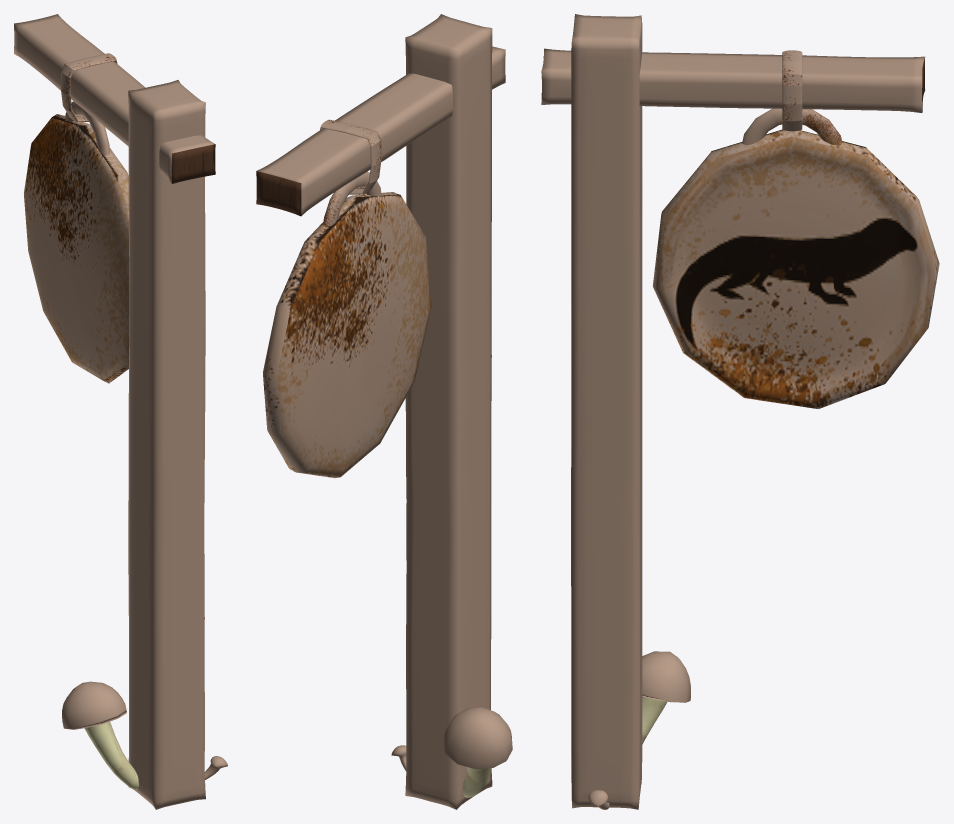
File: BusStopSignbb.fbx
The picture shows the model from 3 angles, left to right: view 1: azimuth 30°, elevation 25°; view 2: azimuth 150°, elevation 25°; view 3: azimuth 270°, elevation 25°; orthographic projection. The views are drawn at different scales.
Visible parts, largest first — view 1: pTorus4; view 2: pTorus4; view 3: pTorus4.
Part boxes in pixels (left/top/right/bottom): pTorus4: left=14, top=14, right=227, bottom=809; pTorus4: left=256, top=14, right=512, bottom=809; pTorus4: left=541, top=14, right=939, bottom=809.
Bounding box in the file's own units: 1.1 × 5.43 × 2.55.
